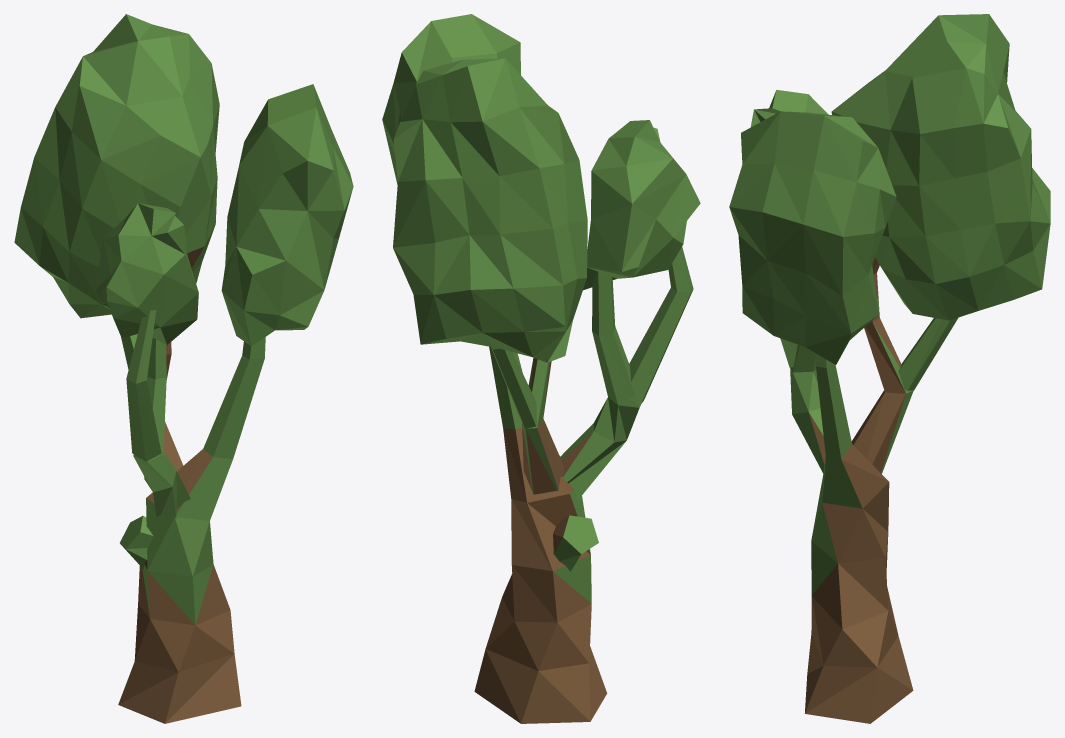
The model's file is tree3d-129.glb.
The picture shows the model from 3 angles, left to right: view 1: azimuth 30°, elevation 25°; view 2: azimuth 150°, elevation 25°; view 3: azimuth 270°, elevation 25°; orthographic projection. The views are drawn at different scales.
Parts seen in each view (by area): view 1: tree3d-129; view 2: tree3d-129; view 3: tree3d-129.
Boxes of the visible parts, <box> form: tree3d-129: <box>14,14,353,723</box>; tree3d-129: <box>382,14,700,723</box>; tree3d-129: <box>729,14,1050,723</box>.
Size of the model in its own units: 0.4376 by 1 by 0.4258.
